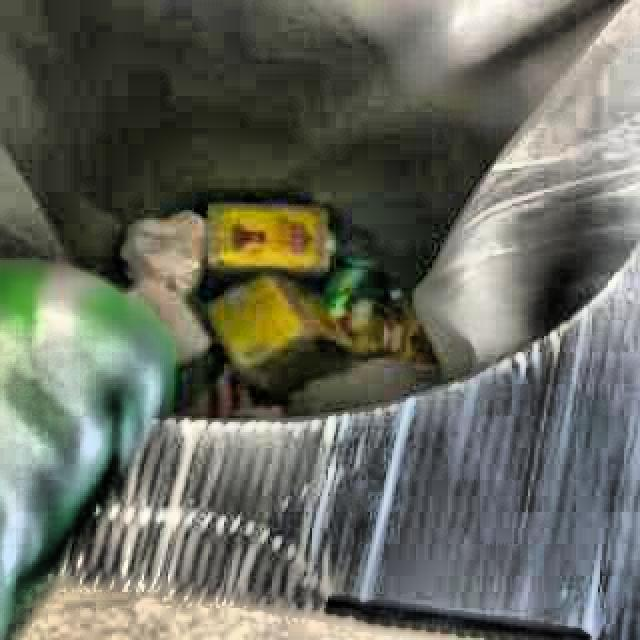metal: (0, 266, 168, 640)
